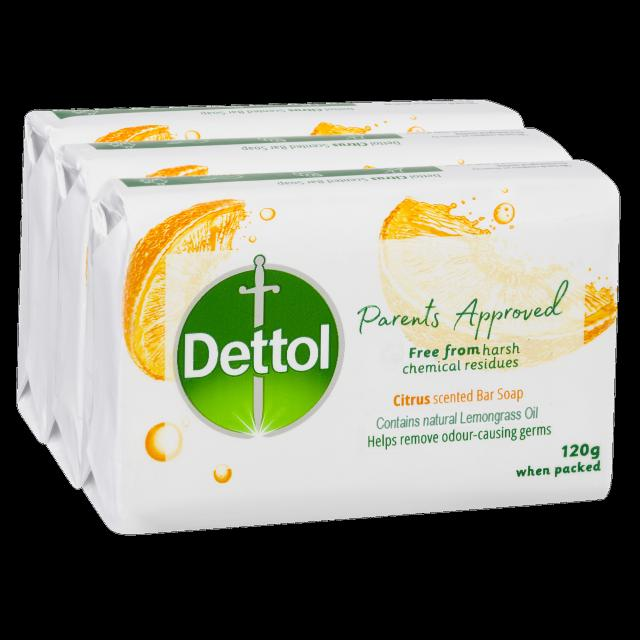soap: (18, 97, 640, 561)
